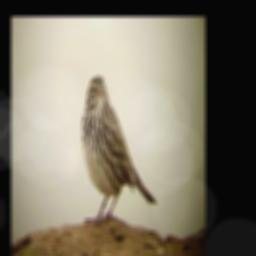Sparrow: (81, 74, 157, 226)
